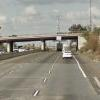Bridge: (3, 26, 73, 46)
